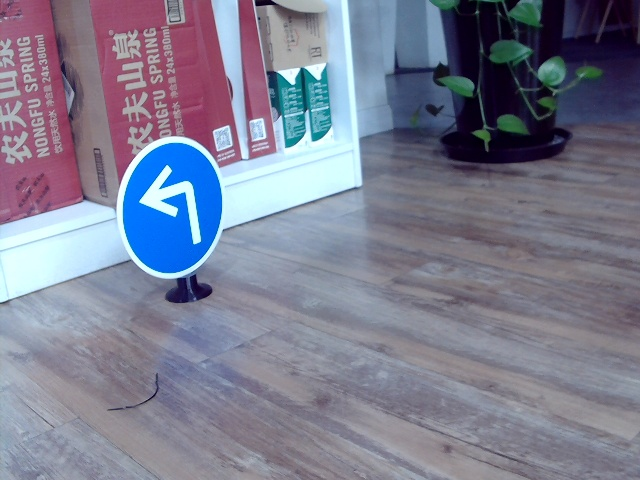turn_left: (139, 162, 207, 244)
